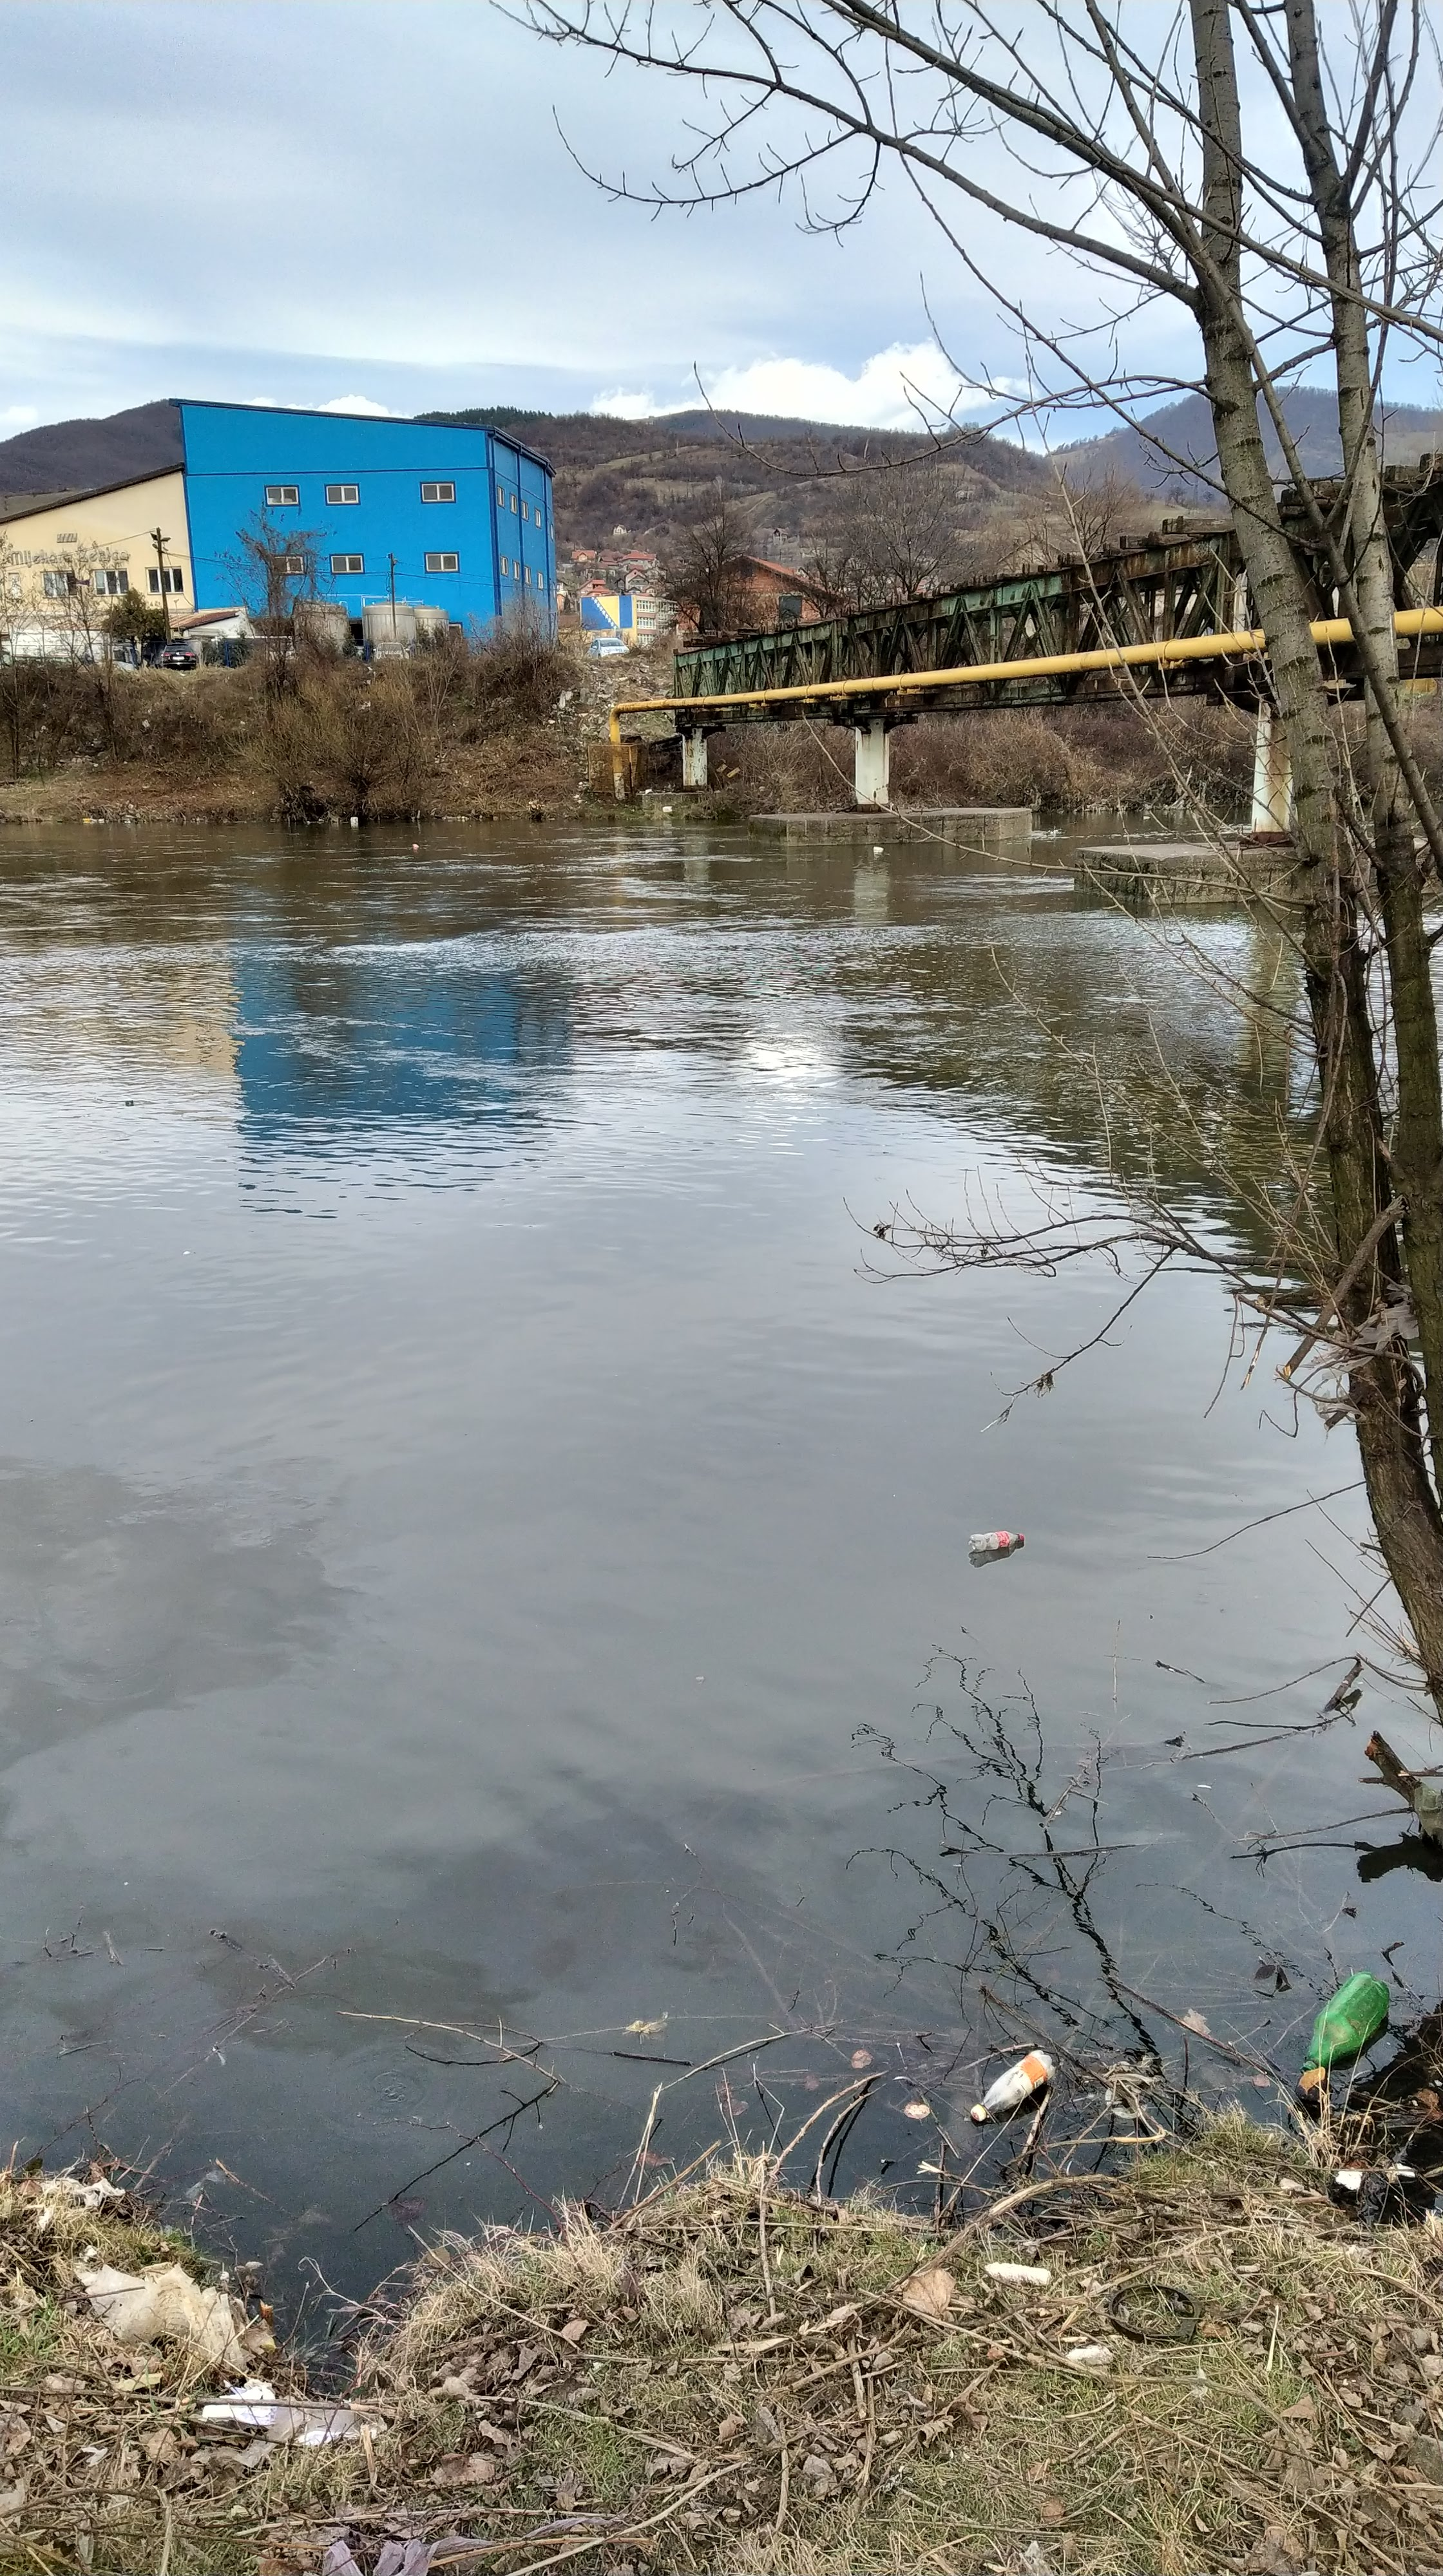Plastic Bottle: (1301, 1971, 1392, 2070), (970, 2049, 1055, 2121), (968, 1530, 1025, 1552), (873, 846, 882, 853), (124, 1099, 133, 1104), (413, 842, 418, 847)
